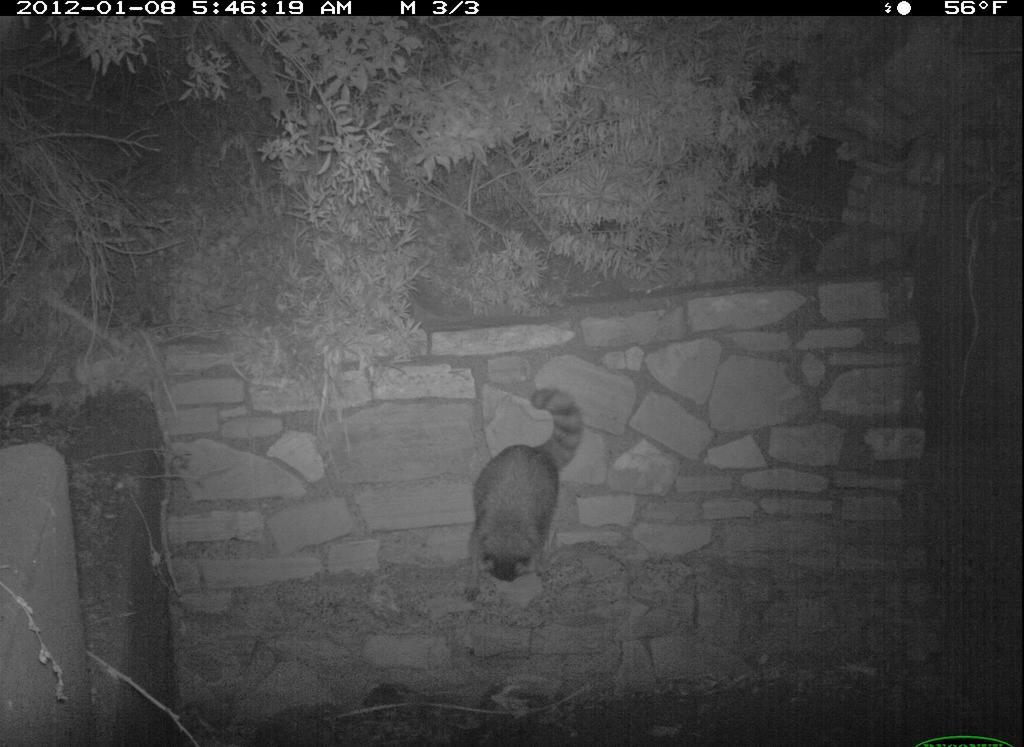raccoon: (474, 378, 582, 607)
